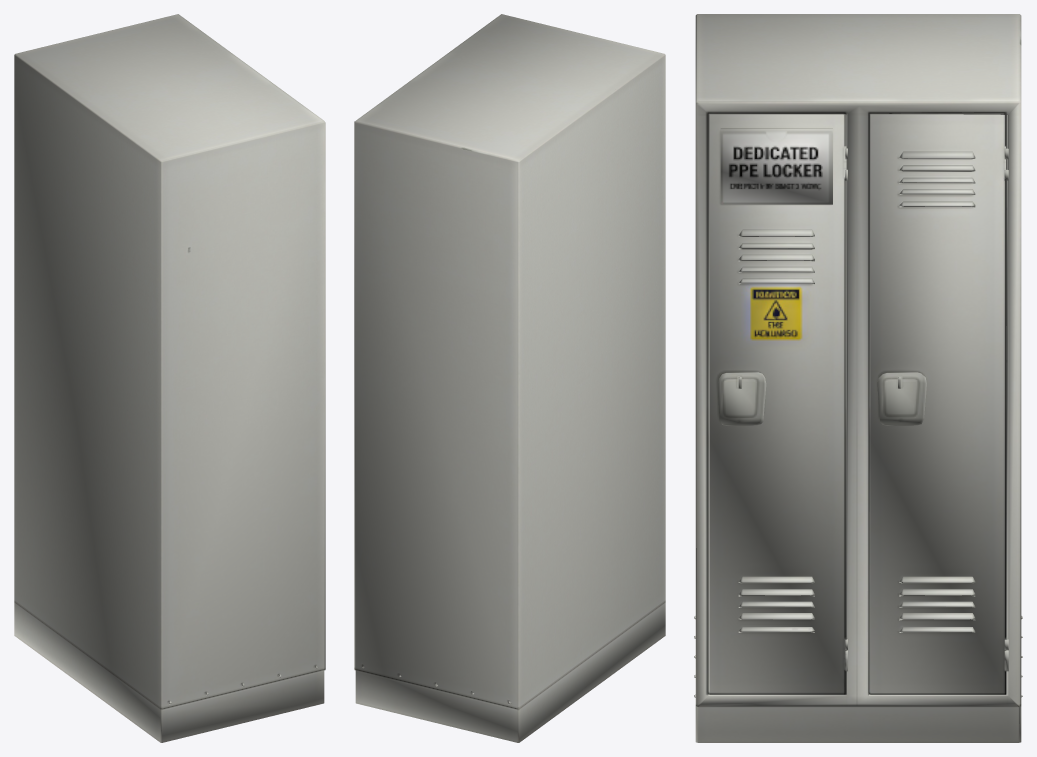
File: PPE_B_MetalLocker.fbx
3 views of the same model, side by side, from view 1: azimuth 30°, elevation 25°; view 2: azimuth 150°, elevation 25°; view 3: azimuth 270°, elevation 25° (orthographic). The views are drawn at different scales.
Visible parts, largest first — view 1: tripo_node_7c300fa3; view 2: tripo_node_7c300fa3; view 3: tripo_node_7c300fa3.
Part boxes in pixels (box(x1,y1,x2,y2)): tripo_node_7c300fa3: box(14, 14, 325, 742); tripo_node_7c300fa3: box(354, 14, 665, 742); tripo_node_7c300fa3: box(694, 14, 1022, 742).
Bounding box in the file's own units: 0.3027 × 0.998 × 0.4629.
